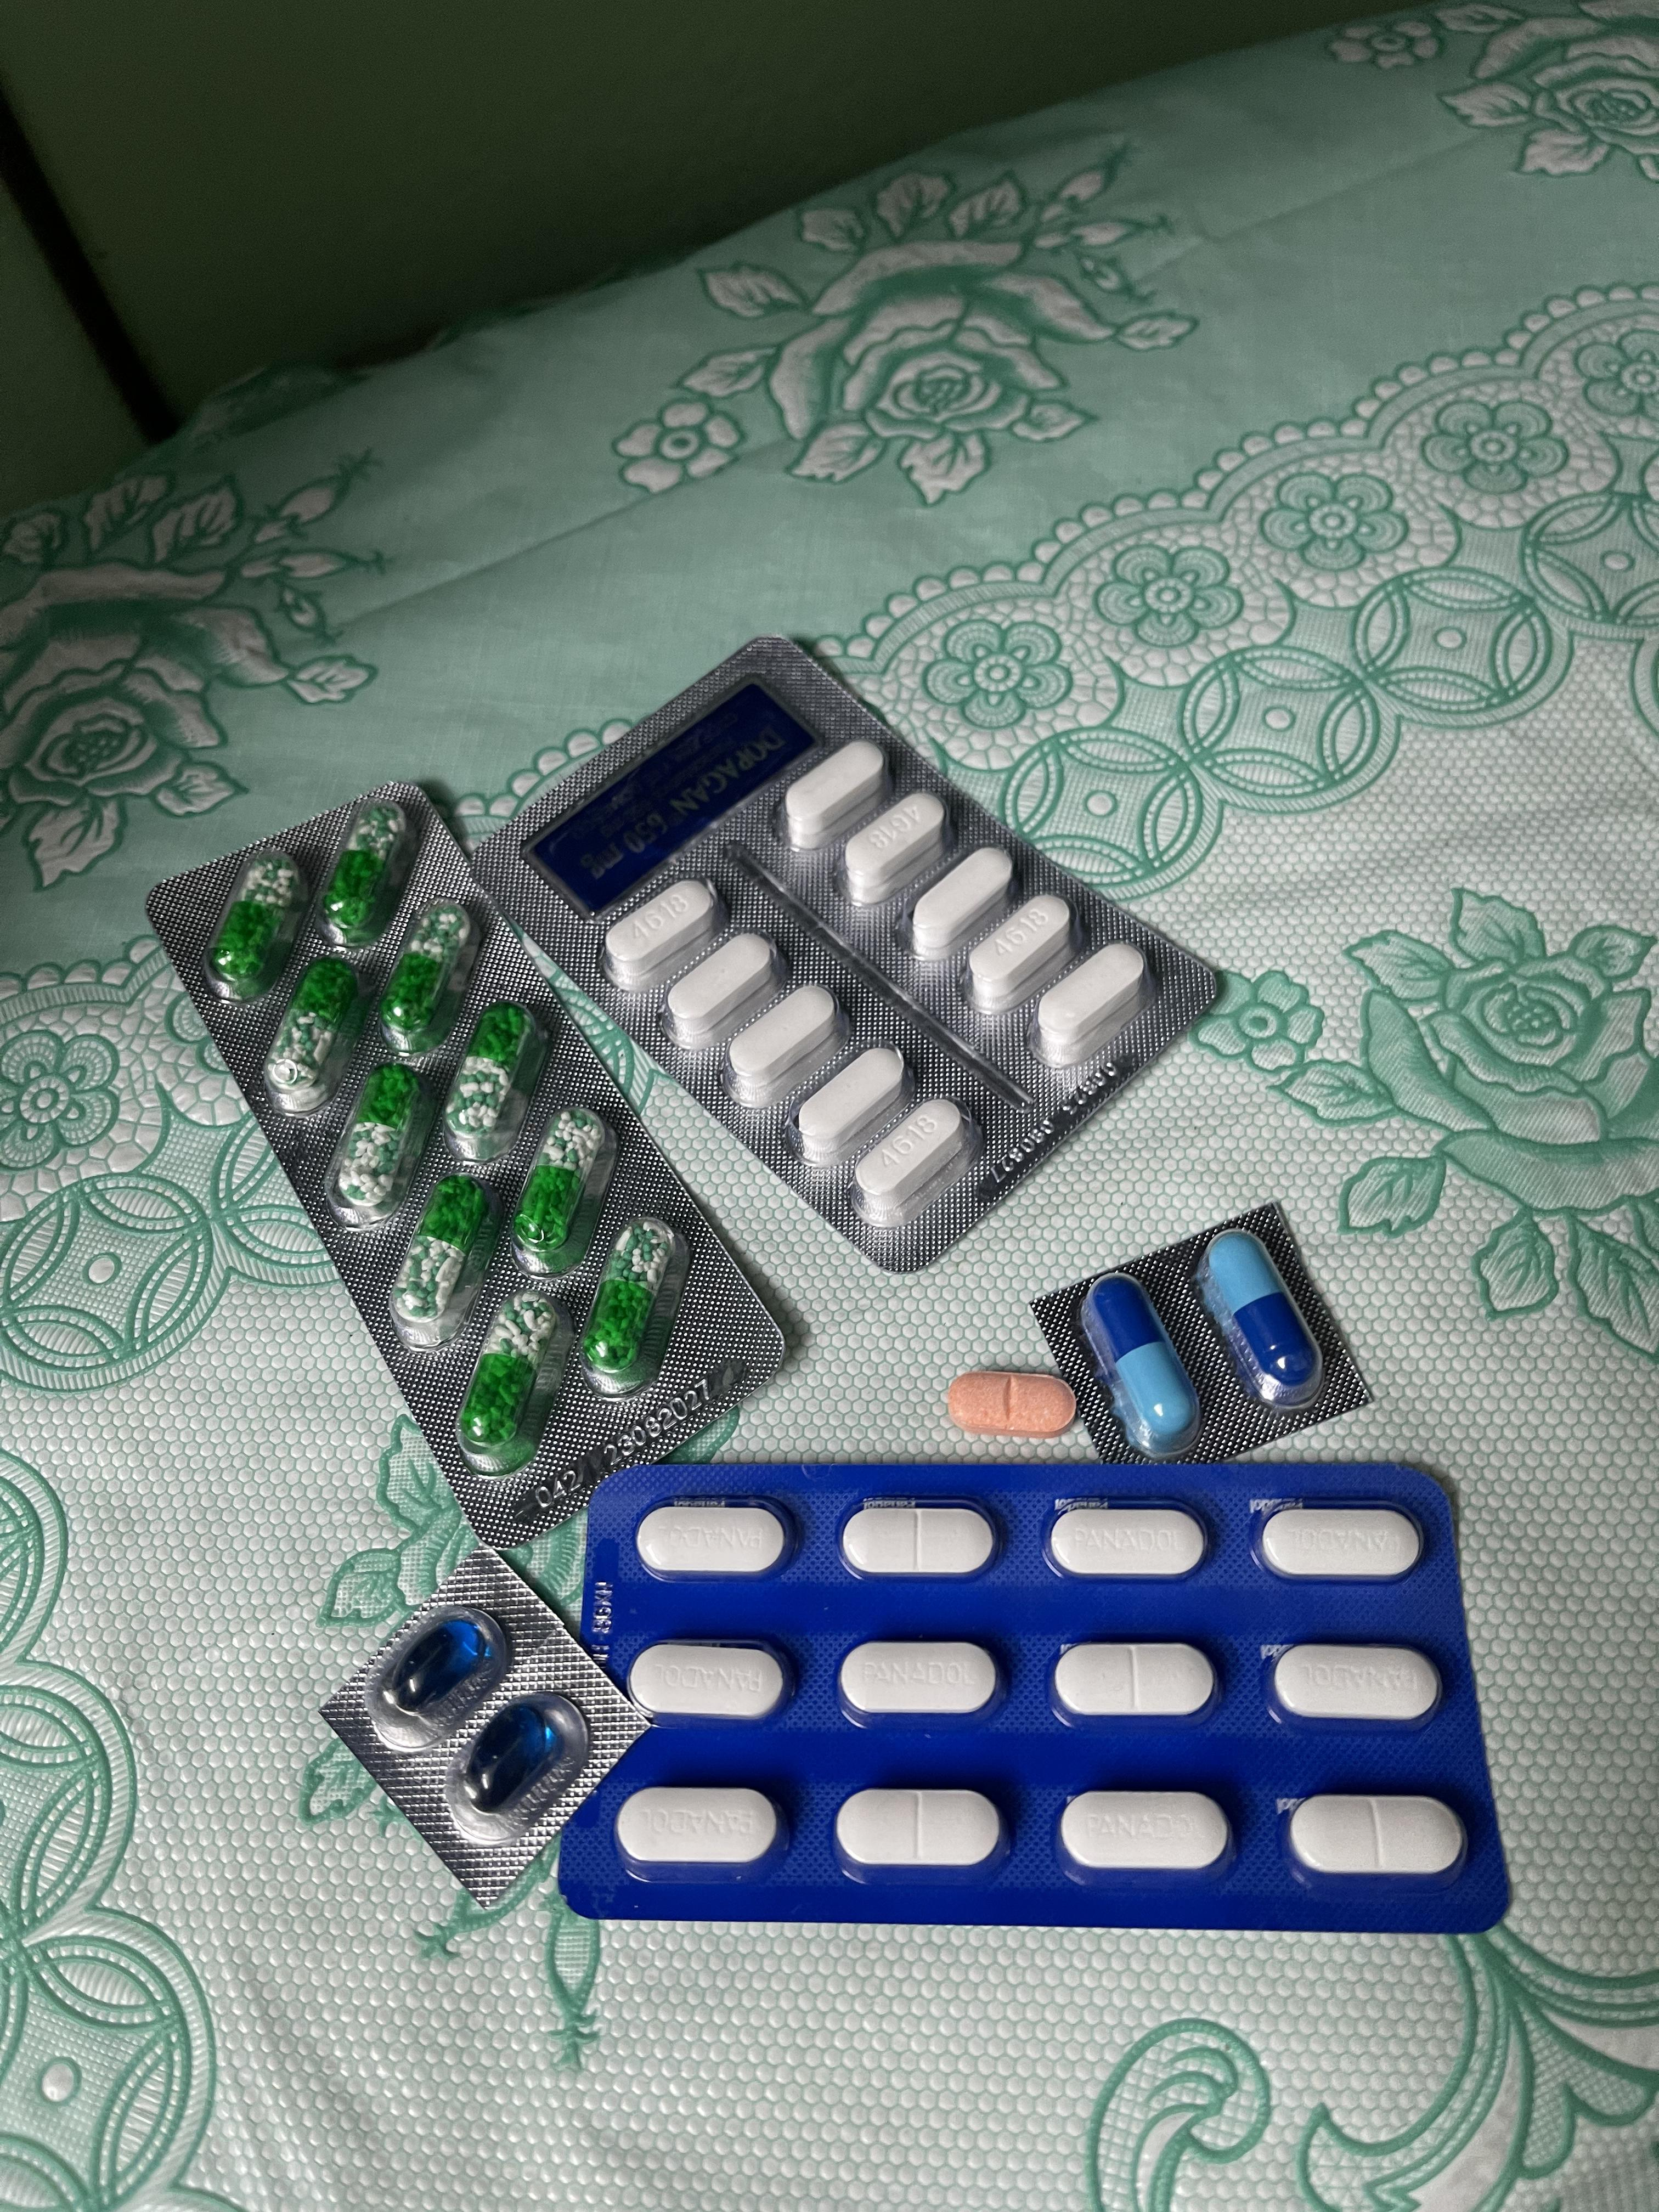Lincomyxin_500mg: (458, 1700, 559, 1811), (392, 1618, 491, 1712)
Loratadine_10mg: (946, 1371, 1079, 1440)
Paracetamol_350mg: (1286, 1794, 1471, 1883), (1058, 1791, 1234, 1879), (835, 1789, 1006, 1879), (615, 1785, 784, 1876), (1267, 1642, 1446, 1726), (626, 1641, 791, 1724), (836, 1641, 1004, 1723), (838, 1496, 1000, 1580), (1054, 1641, 1222, 1721), (1255, 1507, 1429, 1583), (1046, 1501, 1213, 1580), (634, 1501, 793, 1581)
Paracetamol_500mg: (1033, 941, 1150, 1094), (854, 1097, 976, 1231), (725, 981, 842, 1118), (664, 927, 786, 1057), (795, 1045, 908, 1174), (965, 894, 1073, 1022), (910, 850, 1018, 972), (605, 878, 716, 995), (782, 740, 889, 850), (843, 792, 946, 906)
Paracetamol_650mg: (453, 1285, 570, 1468), (322, 1055, 439, 1223), (389, 1169, 493, 1339), (577, 1217, 678, 1390), (507, 1101, 612, 1266), (448, 1000, 551, 1158), (263, 954, 366, 1109), (380, 902, 483, 1055), (204, 850, 308, 998), (321, 801, 408, 951)
pill: (1080, 1273, 1204, 1461), (1195, 1230, 1323, 1413)
